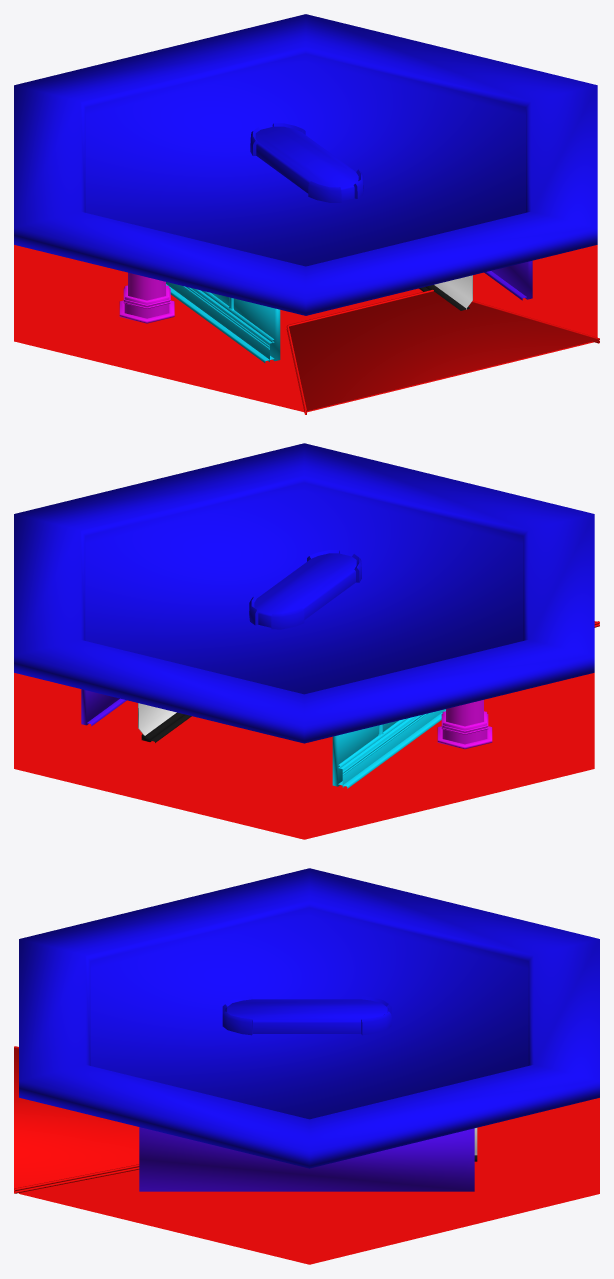
The model's file is Level(Fixed).fbx.
3 views of the same model, one above another, from view 1: azimuth 30°, elevation 25°; view 2: azimuth 150°, elevation 25°; view 3: azimuth 270°, elevation 25° (orthographic).
Parts seen in each view (by area): view 1: Celling, Floor, Wall, Pillar, Wall(Main), Glass; view 2: Celling, Floor, Wall, Pillar, Wall(Main), Glass, GlassWall; view 3: Celling, Floor, Wall(Main).
Boxes of the visible parts, x1,y1,x2,y2 form: Celling: (14,14,597,315); Floor: (14,245,599,414); Wall: (166,282,280,362); Pillar: (119,272,174,323); Wall(Main): (484,260,532,300); Glass: (434,275,472,309); Celling: (14,443,594,743); Floor: (14,621,599,839); Wall: (332,709,445,788); Pillar: (437,700,492,749); Wall(Main): (81,689,126,726); Glass: (138,703,176,735); GlassWall: (141,712,191,742); Celling: (19,868,599,1168); Floor: (14,1046,599,1264); Wall(Main): (139,1127,474,1191).
Bounding box in the file's own units: 93.93 × 17.96 × 82.07.
